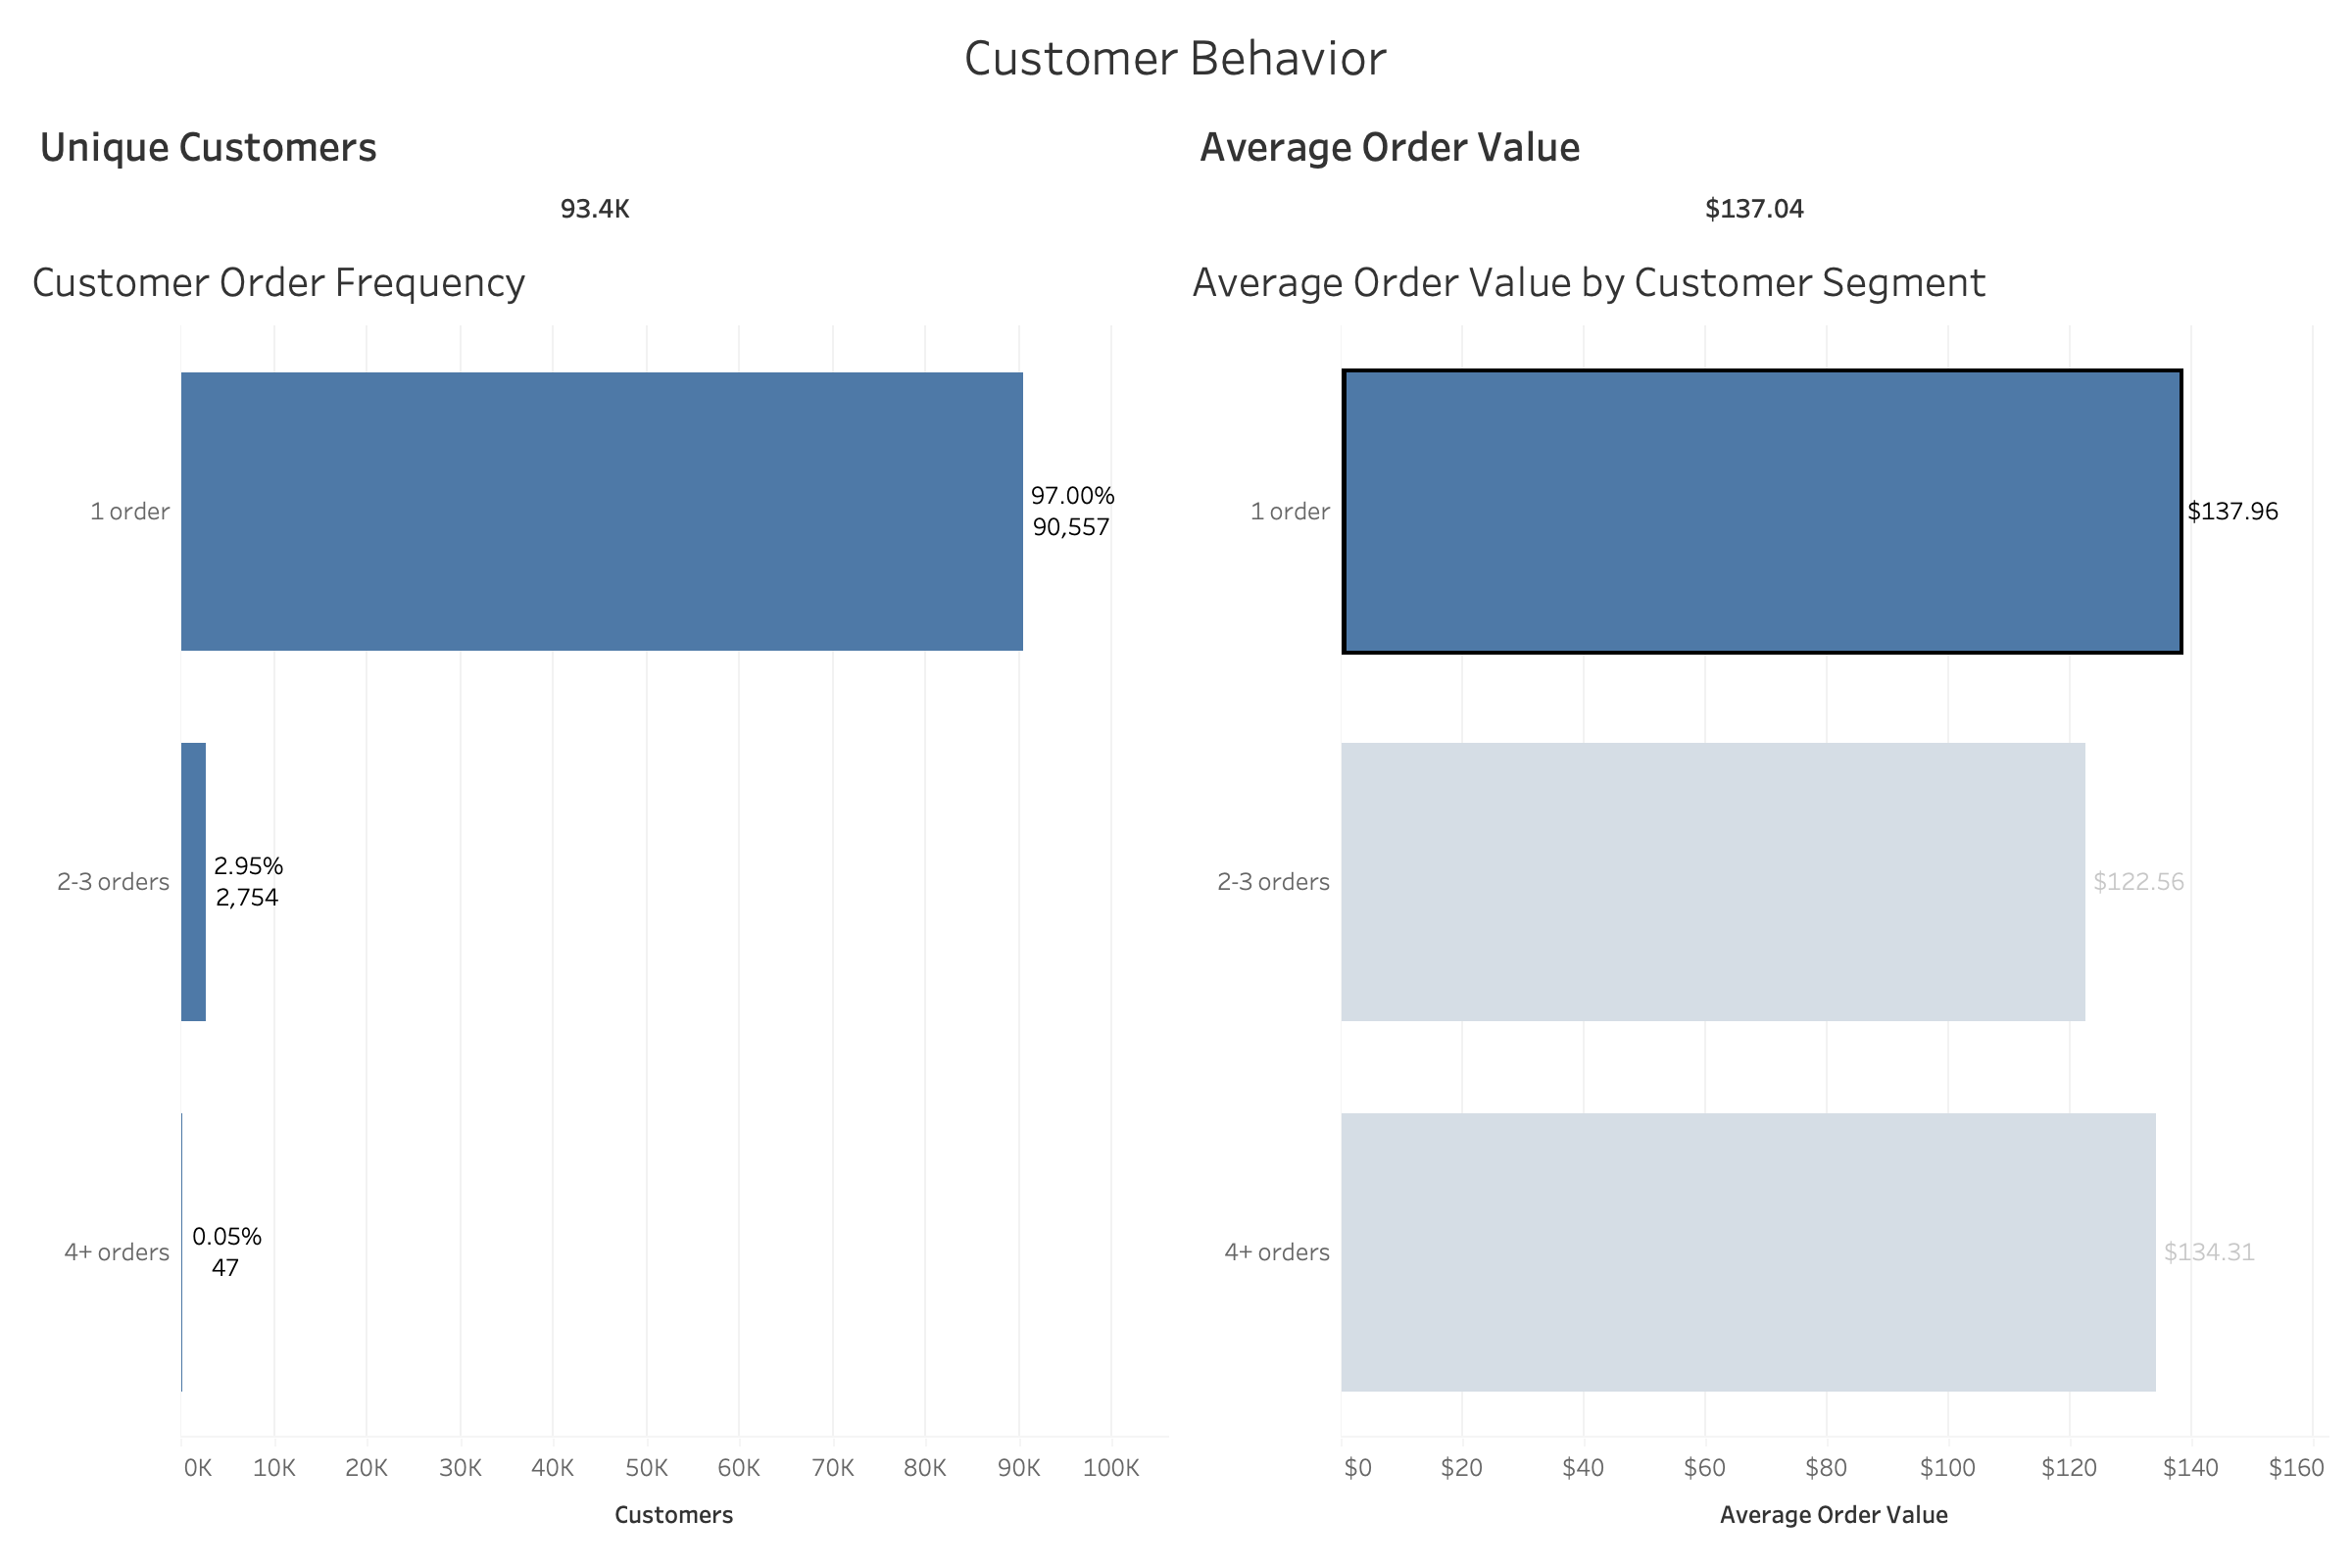

What the dashboard file says about the page in this screenshot:
{"tool":"tableau","page":{"name":"Customer Behavior","canvas":[1200,800],"ordinal":0},"visuals":[{"type":"title","box":[8,8,1184,42]},{"type":"worksheet","title":"KPI- Unique Customers","mark":"Automatic","box":[8,50,592,69]},{"type":"worksheet","title":"KPI - Average Order Value","mark":"Automatic","box":[600,50,592,69]},{"type":"worksheet","title":"Customer Order Frequency","mark":"Automatic","rows":["Calculation_0177003496419337"],"cols":["customer_unique_id"],"box":[8,119,592,673]},{"type":"worksheet","title":"Average Order Value by Customer Segment","mark":"Automatic","rows":["Calculation_0177003496419337"],"cols":["item_subtotal"],"box":[600,119,592,673]}]}

Visuals, with their boxes in screenshot pixels (x1, y1, x2, y2), scaled from the page's 1200x800 canvas onto the 2352x1568 screenshot:
title: 16, 16, 2336, 98
"KPI- Unique Customers" worksheet: 16, 98, 1176, 233
"KPI - Average Order Value" worksheet: 1176, 98, 2336, 233
"Customer Order Frequency" worksheet: 16, 233, 1176, 1552
"Average Order Value by Customer Segment" worksheet: 1176, 233, 2336, 1552
